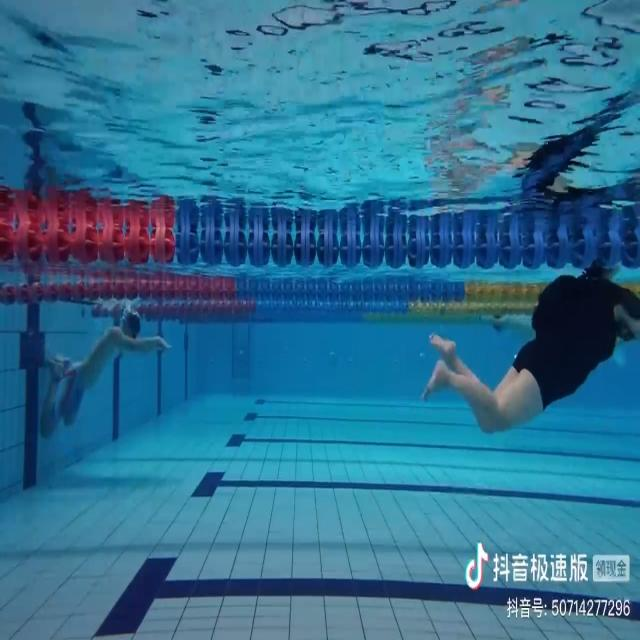Swimming: (425, 266, 640, 436), (41, 302, 170, 433)
